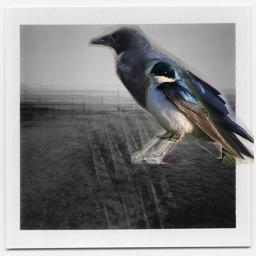Crow: (88, 24, 254, 164)
Swallow: (145, 60, 242, 169)
